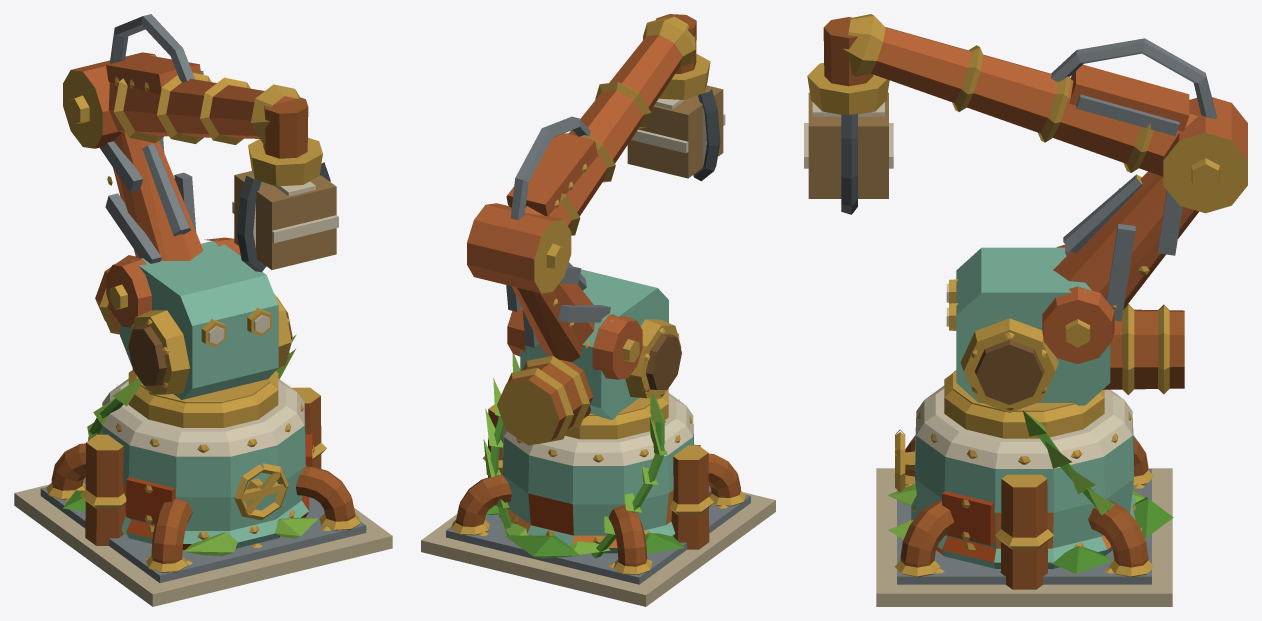
The model's file is rooted-gantry-arm-f35c8f.glb.
3 renders of one model, left to right at view 1: azimuth 30°, elevation 25°; view 2: azimuth 150°, elevation 25°; view 3: azimuth 270°, elevation 25°, orthographic. The views are drawn at different scales.
Visible parts, largest first — view 1: base, turntable-mesh, boom-upper-mesh, boom-lower-mesh, crate-mesh, wrist-mesh, grip-r-mesh; view 2: base, turntable-mesh, boom-upper-mesh, boom-lower-mesh, crate-mesh, wrist-mesh, grip-r-mesh; view 3: base, turntable-mesh, boom-upper-mesh, boom-lower-mesh, crate-mesh, wrist-mesh, grip-l-mesh.
Part boxes in pixels (<box>): base: <box>14,334,392,606</box>; turntable-mesh: <box>95,237,292,427</box>; boom-upper-mesh: <box>106,14,299,144</box>; boom-lower-mesh: <box>63,52,203,263</box>; crate-mesh: <box>232,171,338,269</box>; wrist-mesh: <box>248,97,322,186</box>; grip-r-mesh: <box>237,175,266,272</box>; base: <box>421,353,775,606</box>; turntable-mesh: <box>497,269,681,445</box>; boom-upper-mesh: <box>506,16,695,235</box>; boom-lower-mesh: <box>467,203,610,361</box>; crate-mesh: <box>627,85,725,178</box>; wrist-mesh: <box>656,14,710,99</box>; grip-r-mesh: <box>693,89,720,181</box>; base: <box>876,385,1173,606</box>; turntable-mesh: <box>944,244,1184,438</box>; boom-upper-mesh: <box>843,14,1216,176</box>; boom-lower-mesh: <box>1053,97,1247,321</box>; crate-mesh: <box>804,92,893,198</box>; wrist-mesh: <box>807,17,889,114</box>; grip-l-mesh: <box>841,114,857,214</box>.
Size of the model in its own units: 2 by 3.93 by 2.99.
